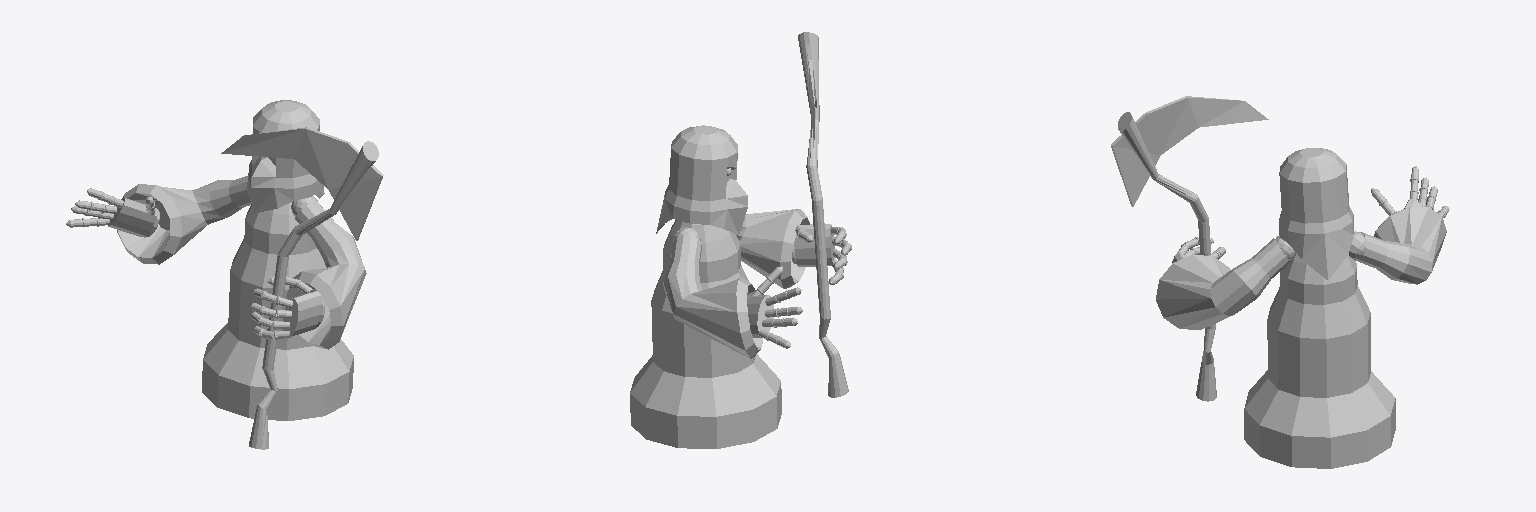
The picture shows the model from 3 angles: view 1: azimuth 30°, elevation 25°; view 2: azimuth 150°, elevation 25°; view 3: azimuth 270°, elevation 25°; orthographic projection.
Visible parts, largest first — view 1: Grim_reaper_mesh[number redacted]; view 2: Grim_reaper_mesh[number redacted]; view 3: Grim_reaper_mesh[number redacted].
Part boxes in pixels (bbox=[...]): Grim_reaper_mesh[number redacted]: bbox=[66, 100, 383, 449]; Grim_reaper_mesh[number redacted]: bbox=[630, 32, 851, 448]; Grim_reaper_mesh[number redacted]: bbox=[1111, 96, 1449, 468].
Bounding box in the file's own units: 3.78 × 5.38 × 5.14.